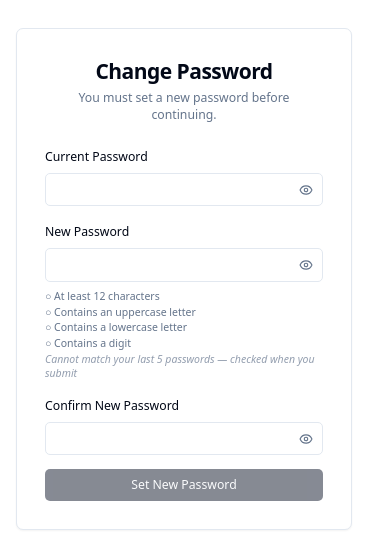
Scenario: submit gate › still refuses a mismatched confirmation
This screenshot has width=369, height=559.
In the password field labelled "Current Password": (184, 190) [45,173,323,206], type "old"
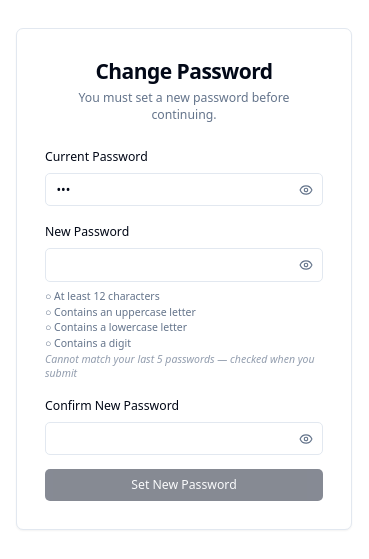
In the password field labelled "New Password": (184, 265) [45,248,323,282], type "Abcdefghij12"
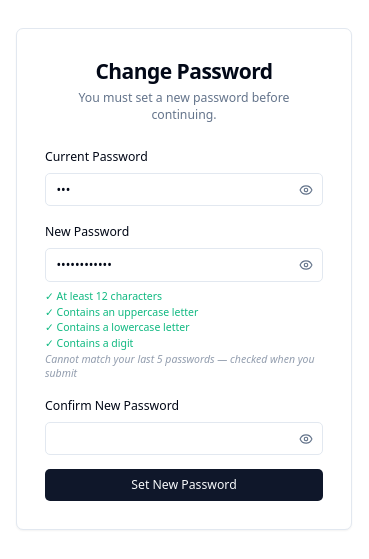
In the password field labelled "Confirm New Password": (184, 439) [45,422,323,455], type "Abcdefghij13"
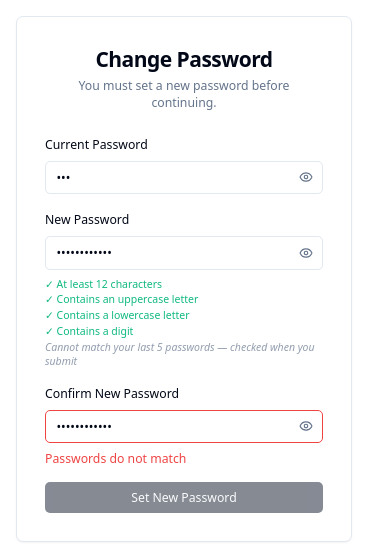
Now the button "Set New Password" is disabled, box [45,482,323,513]
